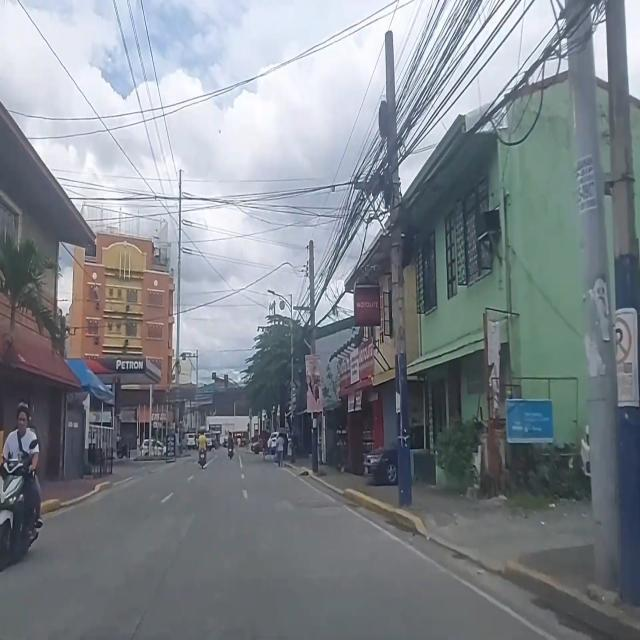car: (362, 426, 424, 484), (140, 439, 166, 457), (182, 432, 196, 450)
jeepney: (230, 428, 248, 446)
motorcycle: (0, 403, 42, 570), (198, 430, 206, 468), (116, 438, 130, 458), (228, 429, 234, 460)
